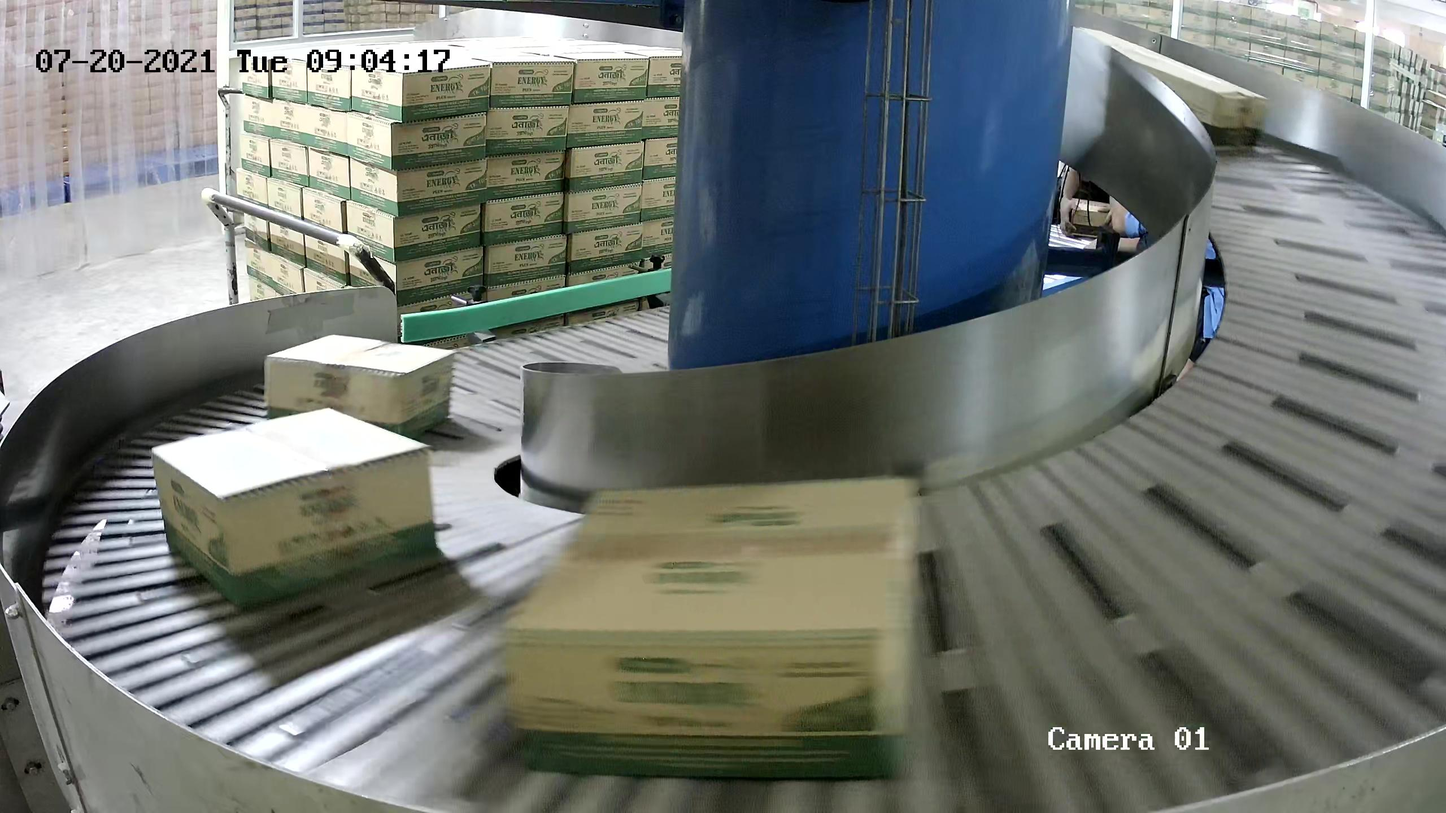Box: (500, 473, 924, 789), (150, 403, 441, 611), (1073, 24, 1270, 154), (263, 333, 455, 441)
